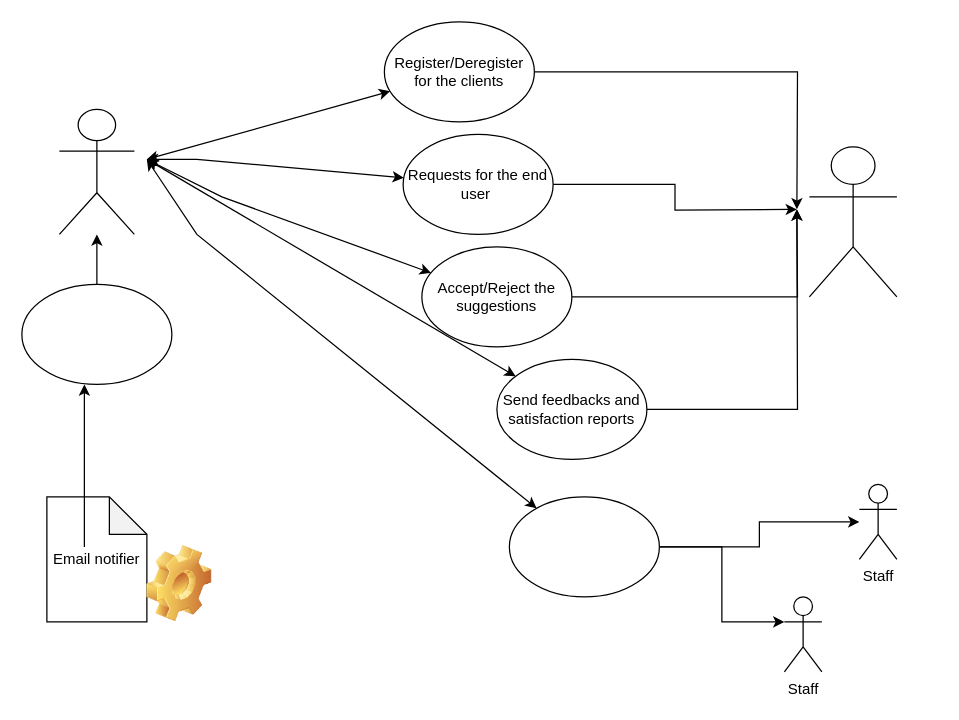
This 959x720 diagram has some shape labels left out. The centre of each missing label's shape, as x and y in pixels:
Clients: (96,171)
Deal with payments for the service: (583,546)
Office ideas//suggestions: (852,221)
Send Solution/Payment: (96,333)
